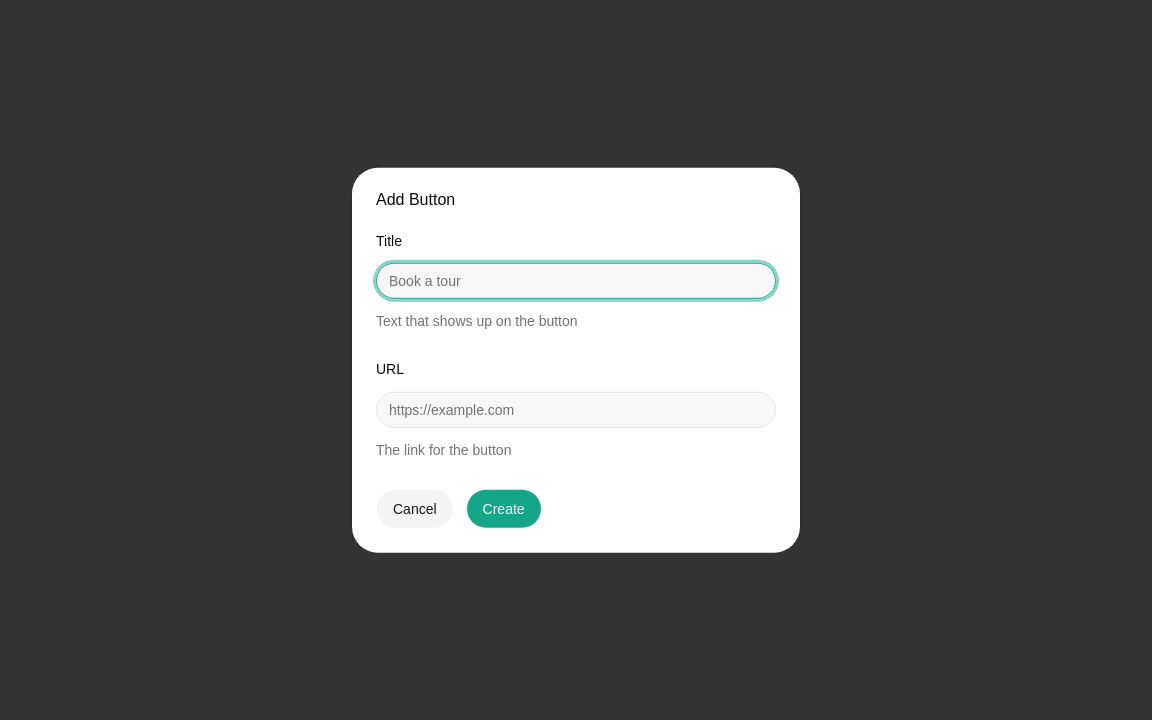
AddLinkModal › blocks submit when the title is short or the url is invalid
Type "Yo" into the field with placeholder "Book a tour" at (576, 281), box [376,263,776,299]
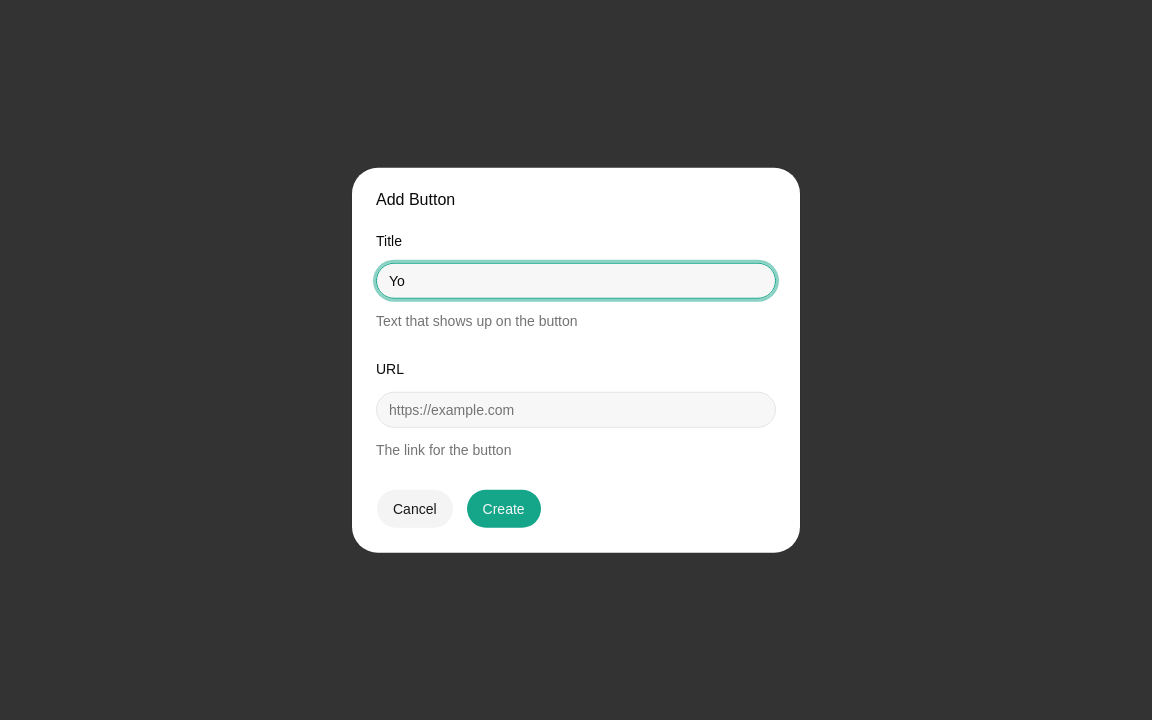
Type "not a url" into the field with placeholder "https://example.com" at (576, 409), box [376,391,776,427]
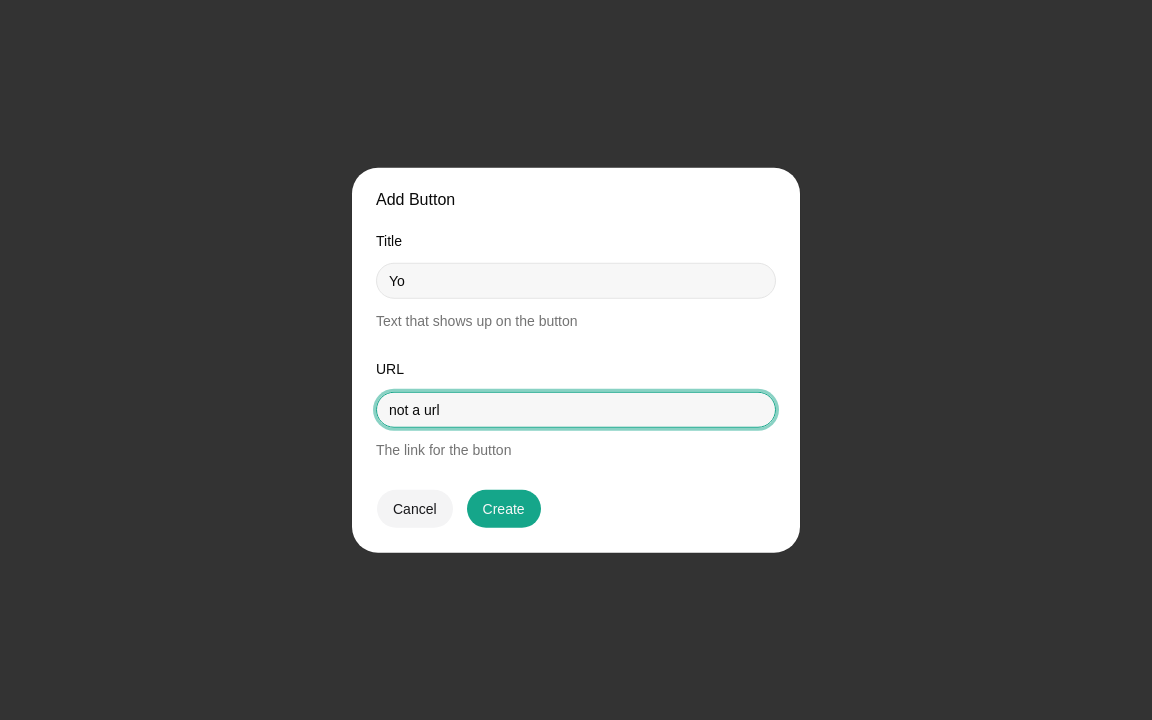
Click the button "Create" at (504, 508), box [466,488,542,528]
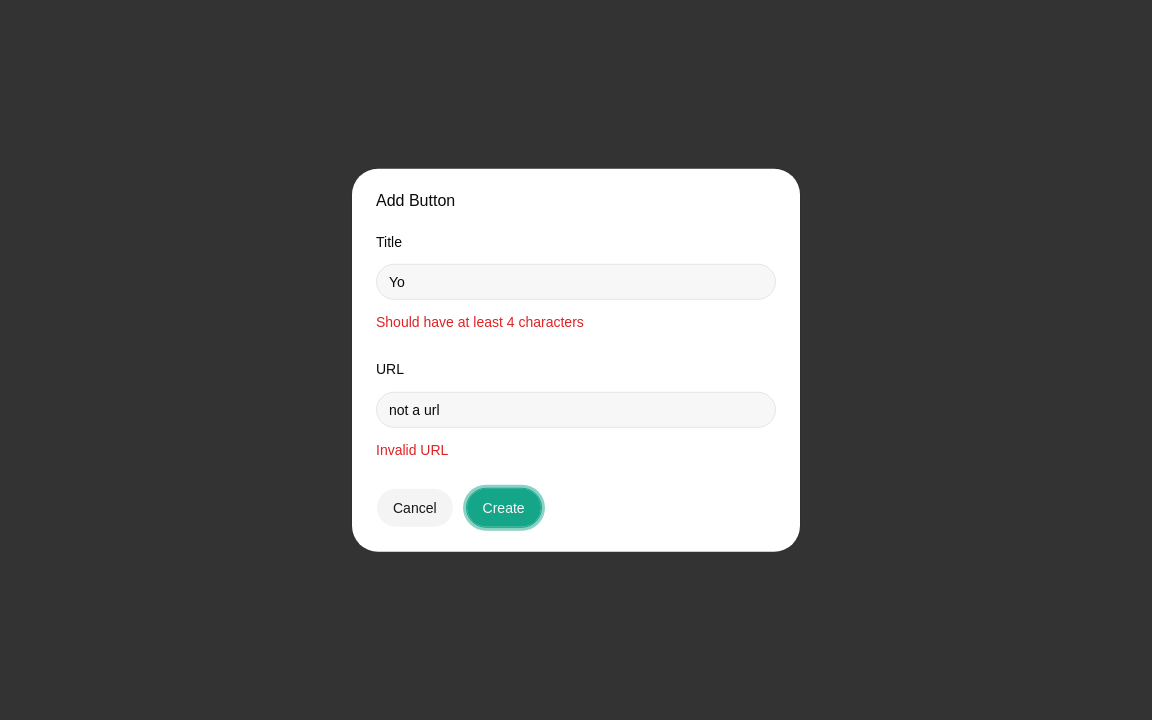
Expected: the dialog is shown, [352,169,800,551]
Now the text "Should have at least 4 characters" is shown, box [376,314,584,330]
